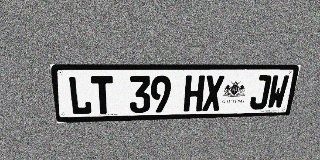3: (130, 76, 151, 113)
9: (151, 76, 171, 113)
H: (183, 75, 205, 112)
J: (249, 75, 272, 110)
L: (67, 76, 92, 115)
T: (91, 76, 114, 114)
W: (266, 75, 290, 109)
X: (202, 75, 225, 111)
